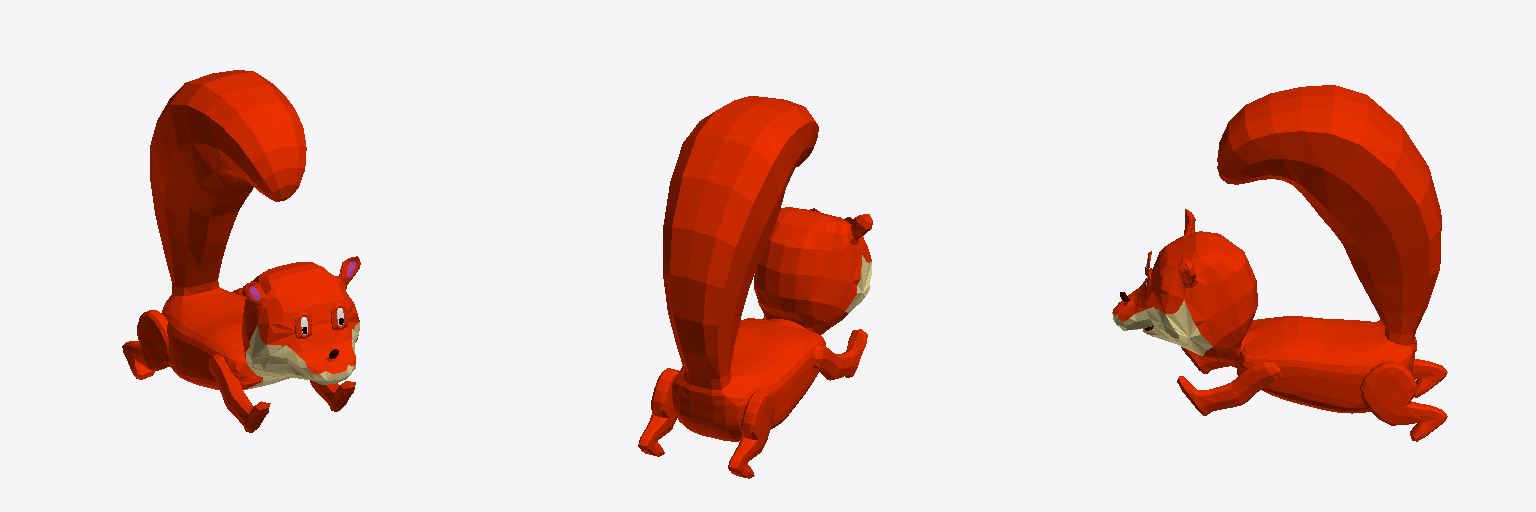
File: swr.obj
3 renders of one model, left to right at view 1: azimuth 30°, elevation 25°; view 2: azimuth 150°, elevation 25°; view 3: azimuth 270°, elevation 25°, orthographic.
Visible parts, largest first — view 1: Cube_Material, Cube_Material.0012, Cube.004_Material.007, Cube.002_Material.006, Cube.001_Material.0062; view 2: Cube_Material, Cube.004_Material.007, Cube.003_Material.0072, Cube.002_Material.006, Cube_Material.0012; view 3: Cube_Material, Cube.003_Material.0072, Cube.001_Material.0062, Cube_Material.0012, Cube.004_Material.007.
Part boxes in pixels (bbox=[...]): Cube_Material: bbox=[150, 70, 360, 389]; Cube_Material.0012: bbox=[245, 322, 359, 389]; Cube.004_Material.007: bbox=[122, 310, 169, 379]; Cube.002_Material.006: bbox=[209, 354, 270, 432]; Cube.001_Material.0062: bbox=[310, 380, 355, 411]; Cube_Material: bbox=[663, 96, 872, 441]; Cube.004_Material.007: bbox=[728, 390, 774, 478]; Cube.003_Material.0072: bbox=[638, 368, 678, 456]; Cube.002_Material.006: bbox=[813, 329, 867, 380]; Cube_Material.0012: bbox=[845, 255, 871, 313]; Cube_Material: bbox=[1113, 85, 1441, 413]; Cube.003_Material.0072: bbox=[1360, 361, 1447, 441]; Cube.001_Material.0062: bbox=[1177, 361, 1282, 415]; Cube_Material.0012: bbox=[1112, 300, 1212, 355]; Cube.004_Material.007: bbox=[1377, 319, 1447, 397].
Size of the model in its own units: 2.46 by 6.48 by 6.11.